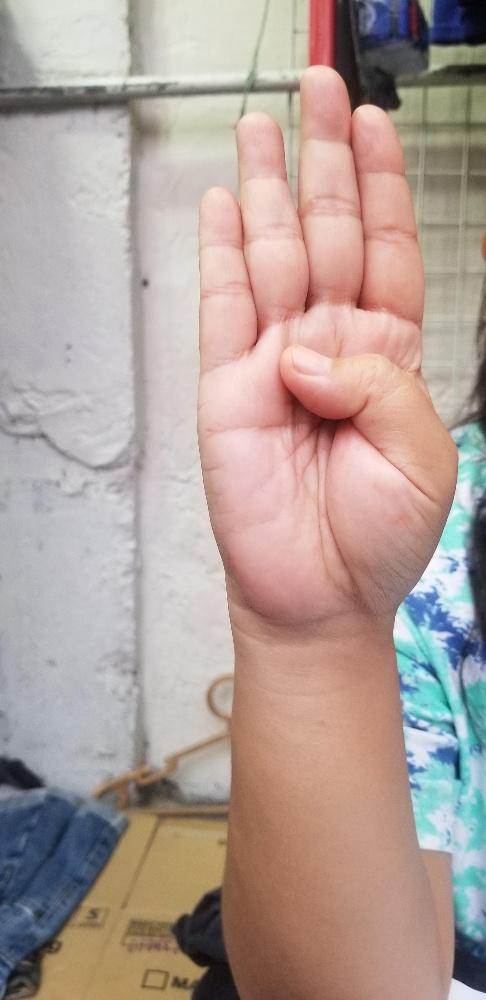b: (193, 63, 458, 627)
